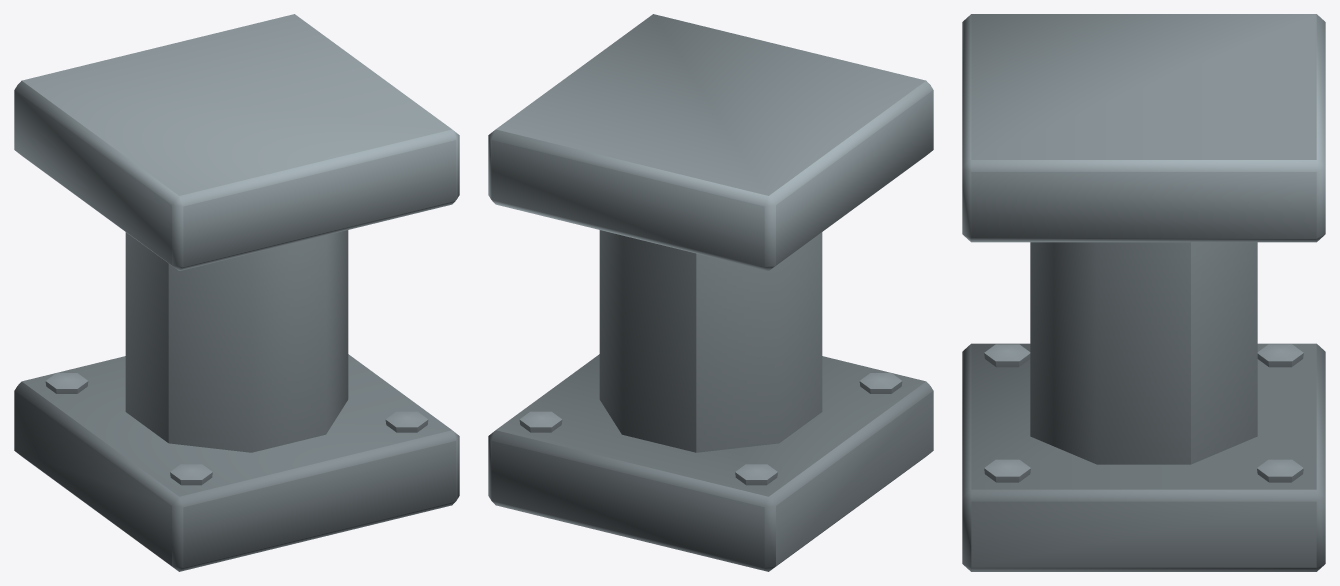
Rendered from pillar_2x2x2.glb.
The picture shows the model from 3 angles, left to right: view 1: azimuth 30°, elevation 25°; view 2: azimuth 150°, elevation 25°; view 3: azimuth 270°, elevation 25°; orthographic projection. The views are drawn at different scales.
Parts seen in each view (by area): view 1: pillar_2x2x2; view 2: pillar_2x2x2; view 3: pillar_2x2x2.
Boxes of the visible parts, x1,y1,x2,y2 form: pillar_2x2x2: (14,14,459,571); pillar_2x2x2: (488,14,933,571); pillar_2x2x2: (962,14,1325,571).
Bounding box in the file's own units: 1.6 × 2 × 1.6.
1 material, 1 textured.
